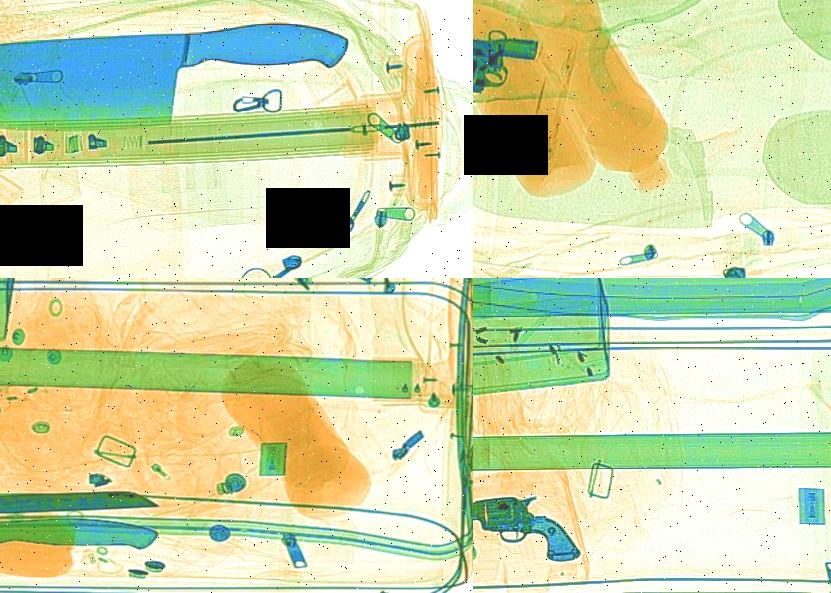Gun: (473, 487, 583, 583), (473, 22, 543, 131)
Knife: (0, 19, 352, 136), (0, 510, 158, 553), (0, 480, 165, 518)
